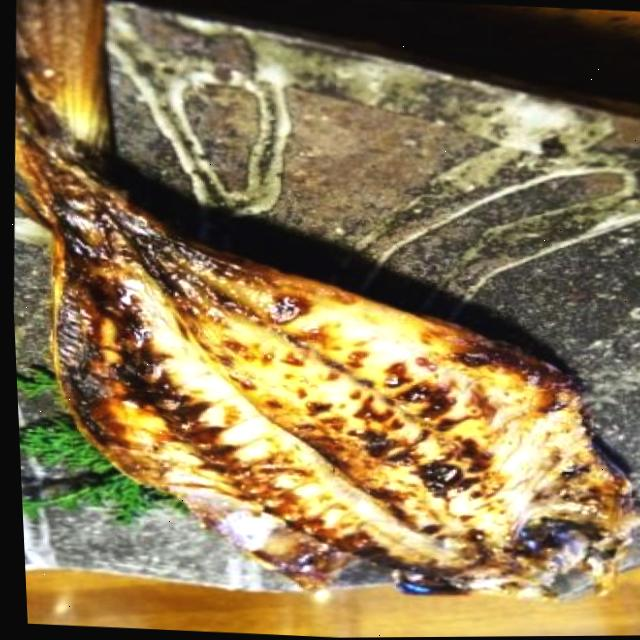熟制海鲜: (3, 78, 640, 640)
